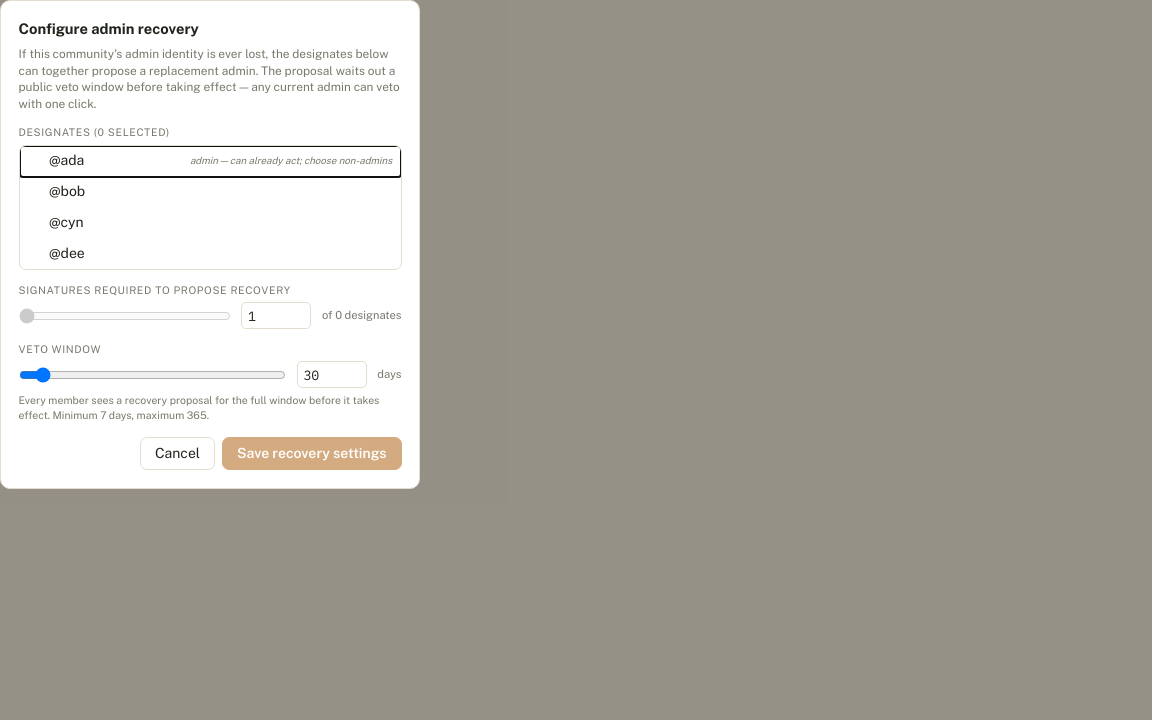
Test: RecoveryConfigDialog › disables save on a fractional veto-window value
Click the option "@bob": point(67, 191) [20, 177, 400, 208]
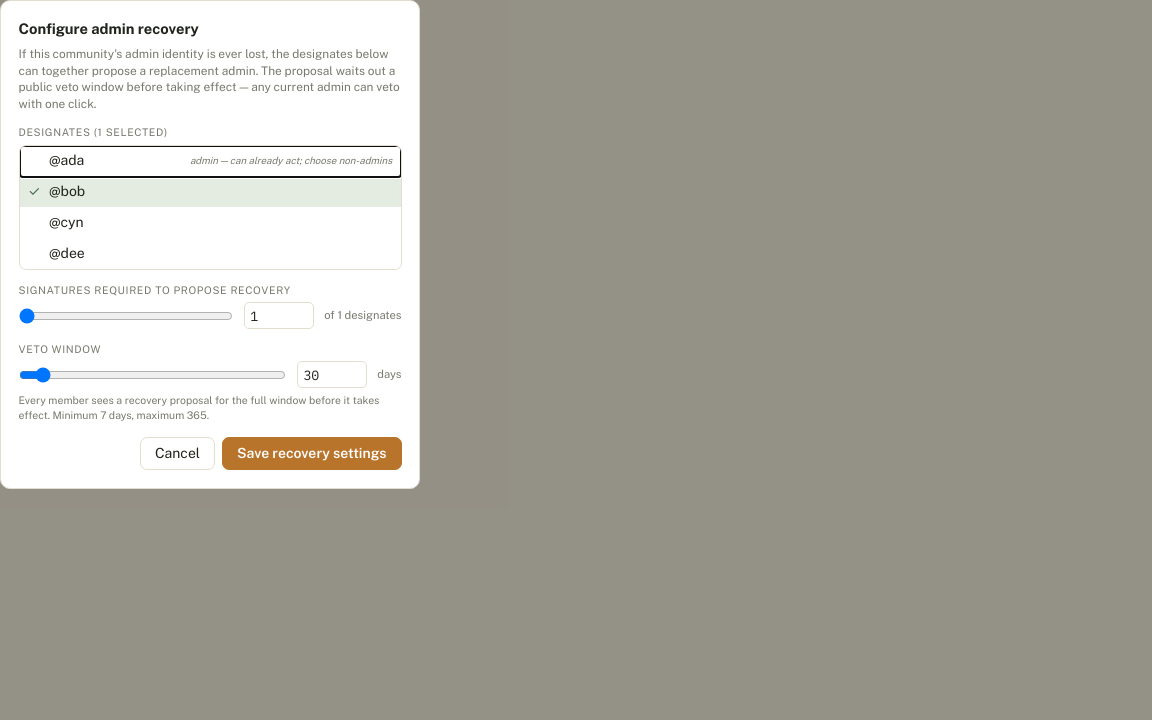
Expected: the button "Save recovery settings" is enabled, [222, 437, 402, 470]
Replace the text in the number field named "Veto window in days" with "7.5": point(332, 375) [297, 361, 367, 388]
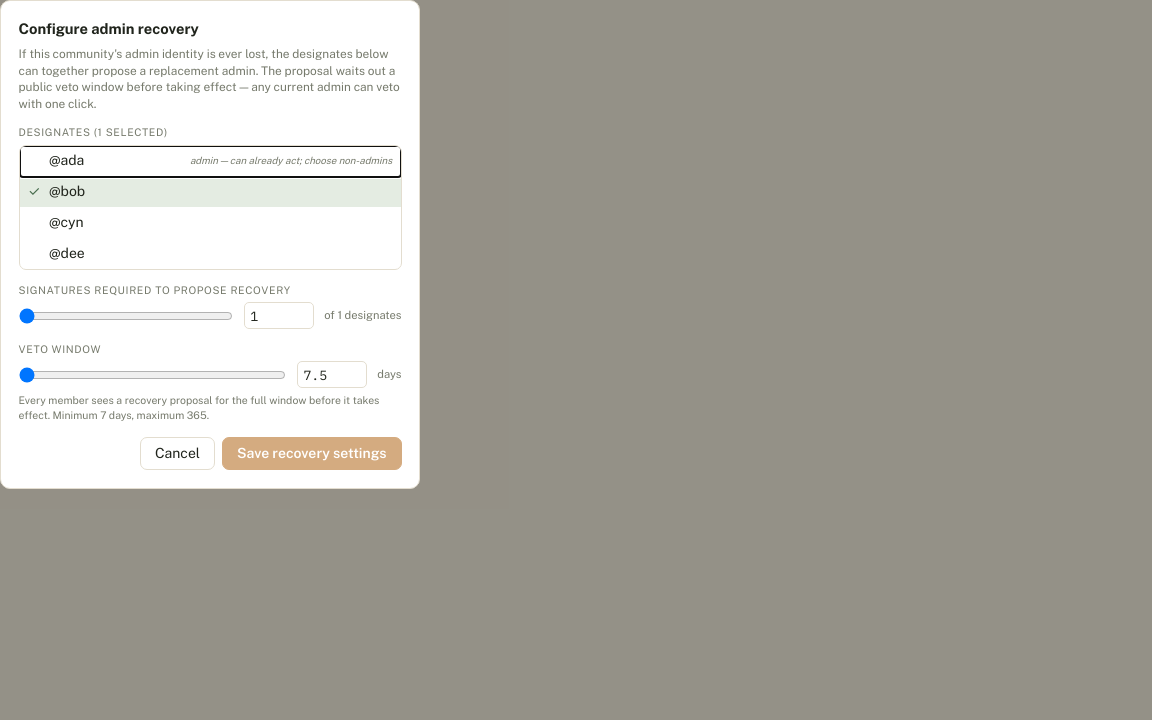
Expected: the button "Save recovery settings" is disabled, [222, 437, 402, 470]
Replace the text in the number field named "Veto window in days" with "8": point(332, 375) [297, 361, 367, 388]
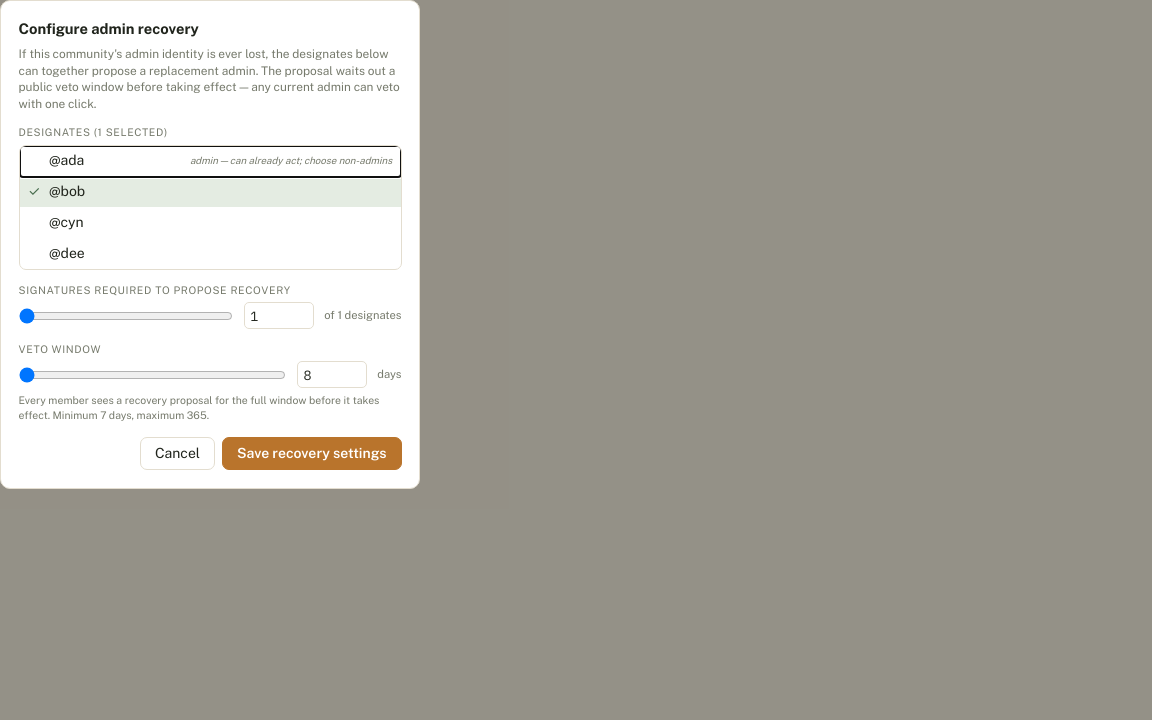
Expected: the button "Save recovery settings" is enabled, [222, 437, 402, 470]
